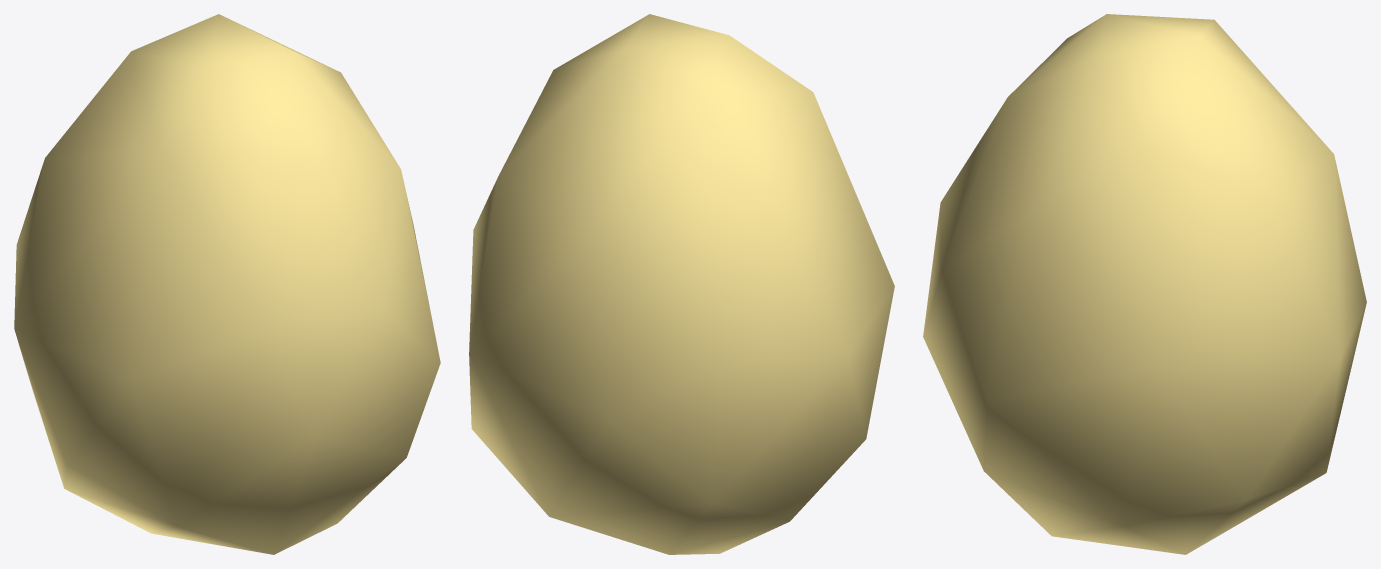
File: egg.glb
3 renders of one model, left to right at view 1: azimuth 30°, elevation 25°; view 2: azimuth 150°, elevation 25°; view 3: azimuth 270°, elevation 25°, orthographic.
Parts seen in each view (by area): view 1: Sphere; view 2: Sphere; view 3: Sphere.
Part boxes in pixels (bbox=[...]): Sphere: bbox=[14, 14, 440, 554]; Sphere: bbox=[469, 14, 894, 554]; Sphere: bbox=[923, 14, 1366, 554].
Size of the model in its own units: 2.07 by 2.54 by 2.02.
